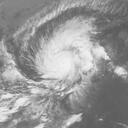cyclone: (32, 16, 98, 85)
